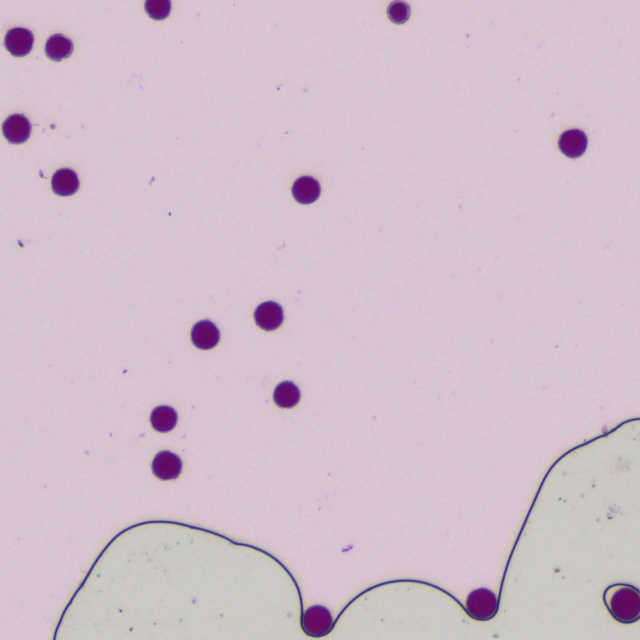viable: (604, 584, 639, 623), (467, 588, 496, 619), (303, 605, 331, 635), (153, 451, 181, 479), (5, 28, 33, 56), (255, 302, 283, 330), (192, 320, 219, 349), (3, 114, 30, 143), (559, 130, 587, 157), (292, 177, 320, 203), (52, 169, 79, 195), (46, 34, 72, 61), (151, 406, 177, 431), (274, 382, 300, 407), (387, 1, 410, 23), (146, 1, 170, 19)
